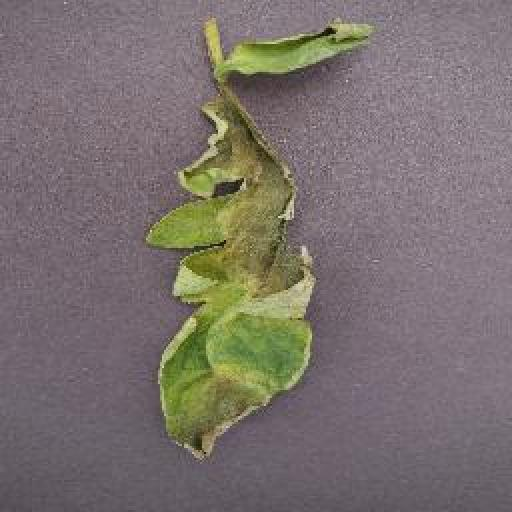disease_tomato: (143, 84, 320, 456), (231, 17, 376, 76)
